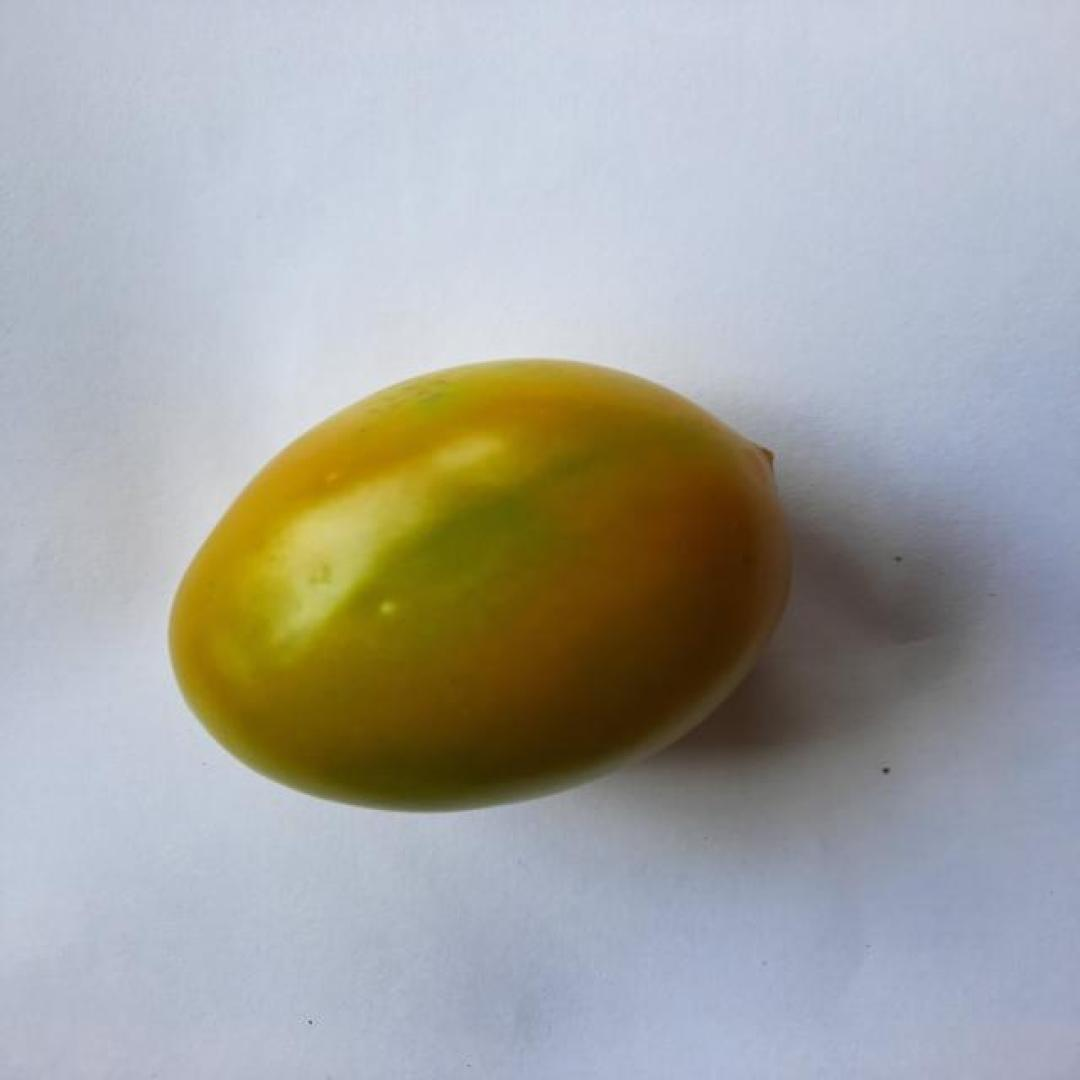setengah_matang: (158, 354, 802, 817)
